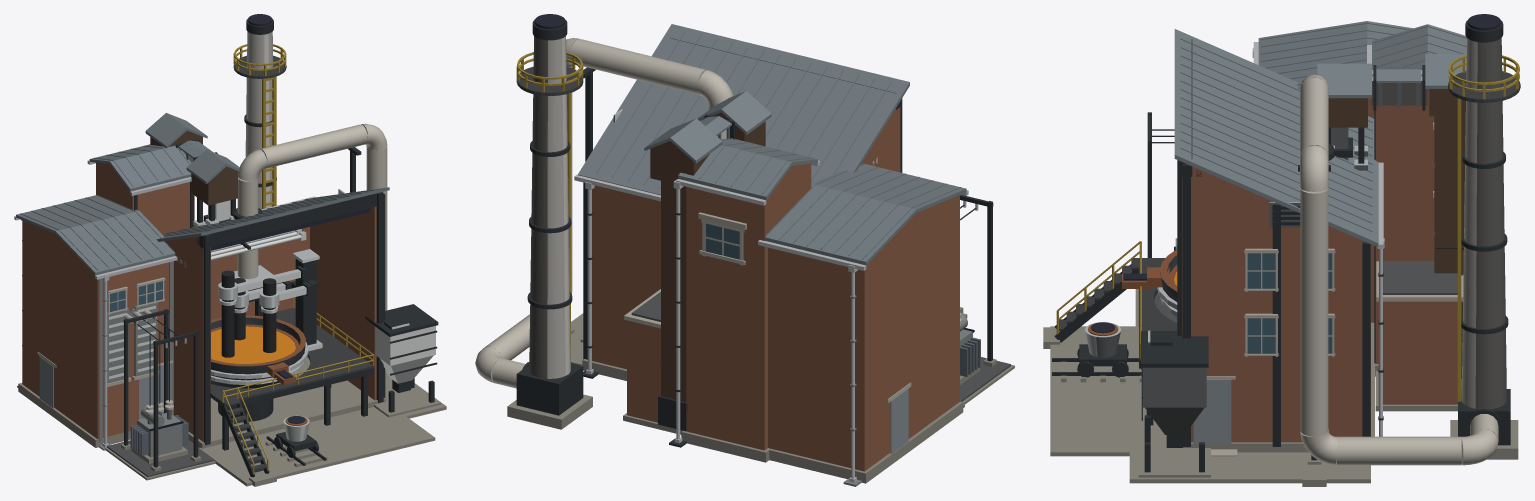
File: eaf_lvl1.glb
The picture shows the model from 3 angles, left to right: view 1: azimuth 30°, elevation 25°; view 2: azimuth 150°, elevation 25°; view 3: azimuth 270°, elevation 25°; orthographic projection. The views are drawn at different scales.
Parts seen in each view (by area): view 1: eaf_v2, eaf_v2_Glass; view 2: eaf_v2, eaf_v2_Glass; view 3: eaf_v2, eaf_v2_Glass.
Boxes of the visible parts, bbox=[...] form: eaf_v2: bbox=[14, 14, 446, 486]; eaf_v2_Glass: bbox=[110, 281, 162, 311]; eaf_v2: bbox=[475, 14, 1014, 486]; eaf_v2_Glass: bbox=[705, 223, 739, 259]; eaf_v2: bbox=[1043, 14, 1520, 486]; eaf_v2_Glass: bbox=[1247, 253, 1332, 353].
Size of the model in its own units: 0.9597 by 0.9126 by 0.9302.
